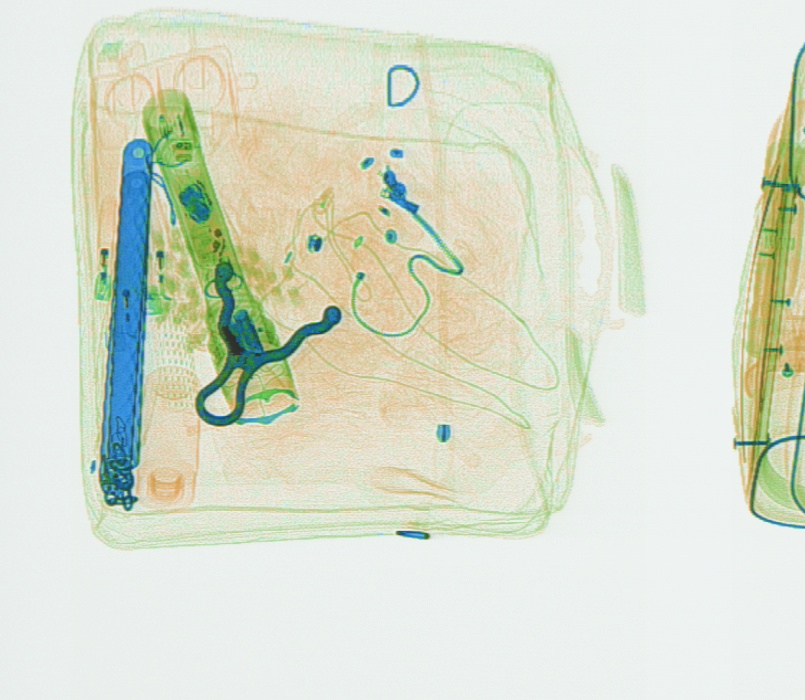firecrackers: (156, 217, 312, 369)
lighter: (90, 190, 122, 303), (144, 213, 176, 312), (114, 250, 143, 343)
slingshot: (188, 253, 345, 427)
